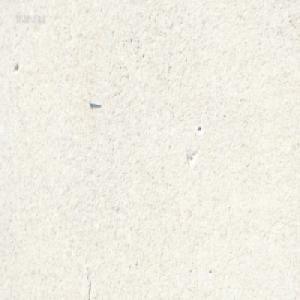Nail: (88, 98, 101, 106)
